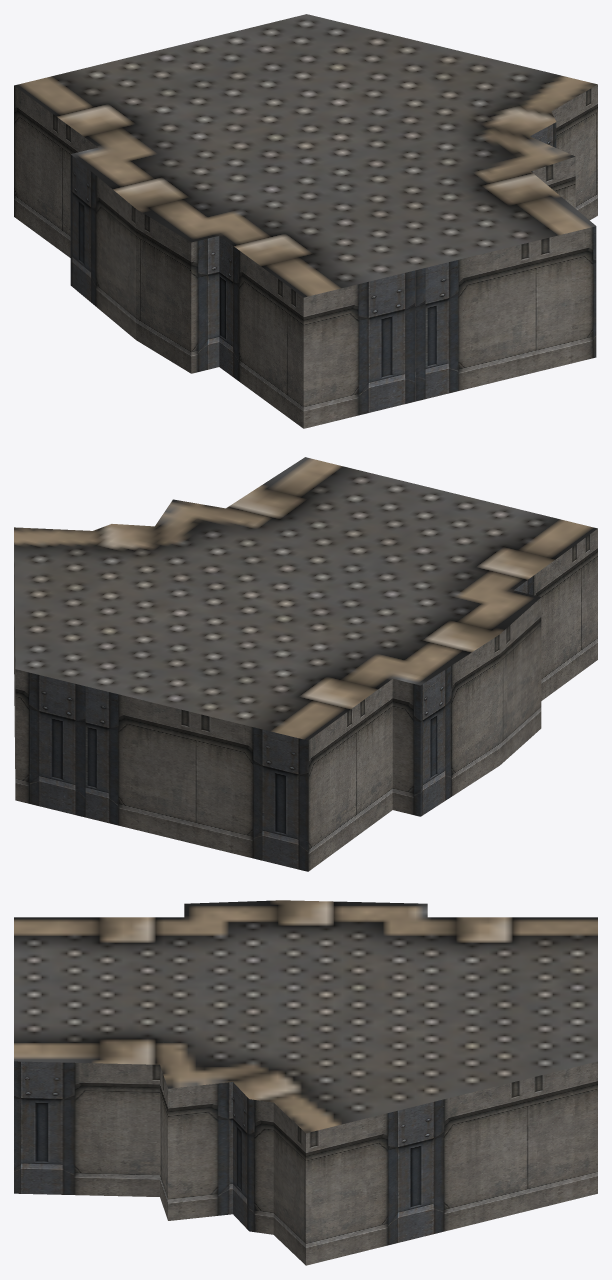
File: building_heavy_a_11.glb
3 renders of one model, top to bottom at view 1: azimuth 30°, elevation 25°; view 2: azimuth 150°, elevation 25°; view 3: azimuth 270°, elevation 25°, orthographic.
Parts seen in each view (by area): view 1: buildings/saxarba/building_heavy/building_heavy_a_11; view 2: buildings/saxarba/building_heavy/building_heavy_a_11; view 3: buildings/saxarba/building_heavy/building_heavy_a_11.
Part boxes in pixels (box(x1,y1,x2,y2)): buildings/saxarba/building_heavy/building_heavy_a_11: box(14, 14, 597, 428); buildings/saxarba/building_heavy/building_heavy_a_11: box(14, 457, 597, 871); buildings/saxarba/building_heavy/building_heavy_a_11: box(14, 900, 597, 1265).
Bounding box in the file's own units: 68 × 18 × 72.
